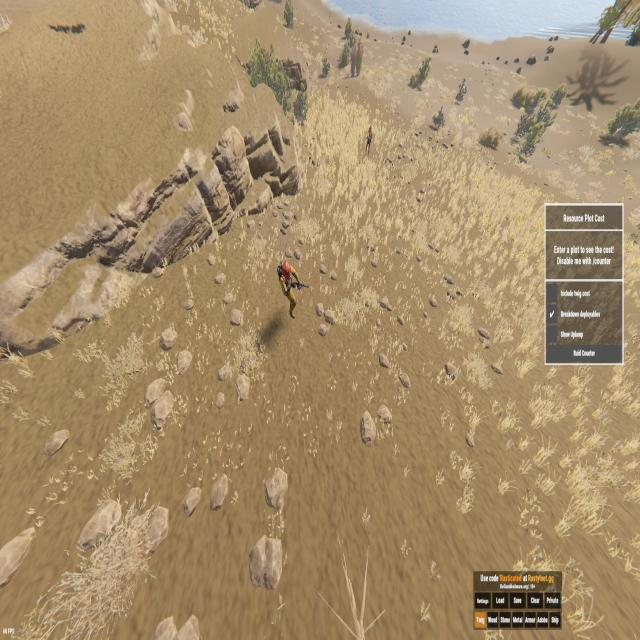Player: (277, 260, 301, 319), (364, 125, 372, 157)
